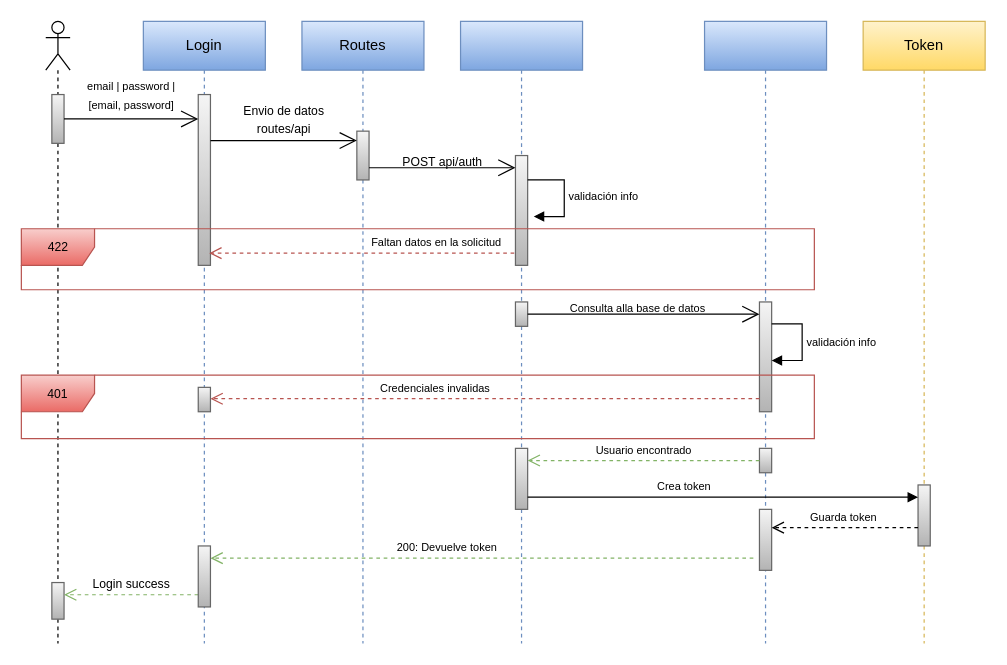
Some shapes in this 1007 by 665 pixel diagram are drawn without their labels. Here are the shapes that lost their labels. From the top down, the centre of each, then its label:
(x=521, y=332): AuthController
(x=765, y=332): Base de datos
